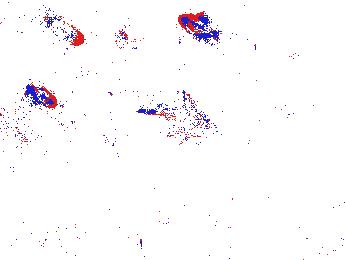X-ray fish: (137, 100, 220, 140), (114, 14, 139, 53)
red belly glassfish: (177, 12, 221, 40), (25, 84, 59, 109), (266, 47, 300, 72)
redtail glassfish: (39, 8, 84, 49)
